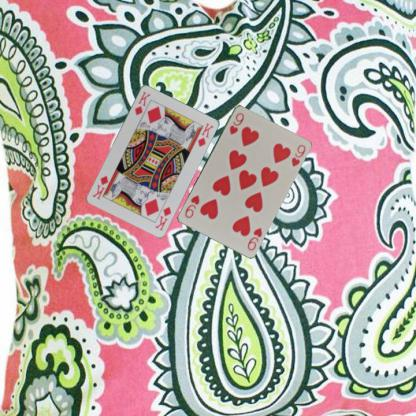9h: (244, 225, 263, 252), (226, 110, 245, 136)
Kd: (132, 89, 152, 116), (153, 204, 172, 232)
